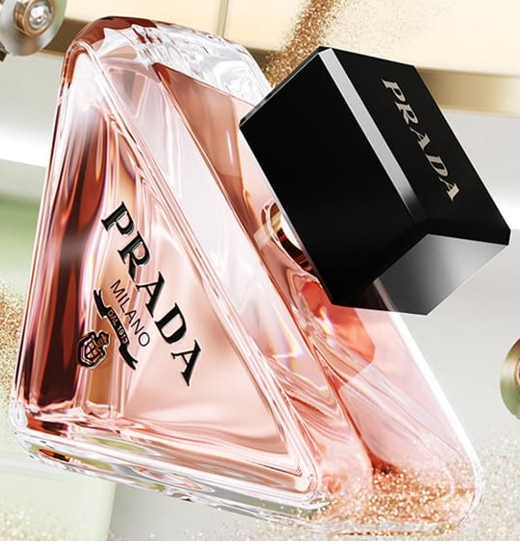prada_paradoxe: (6, 11, 514, 539)
